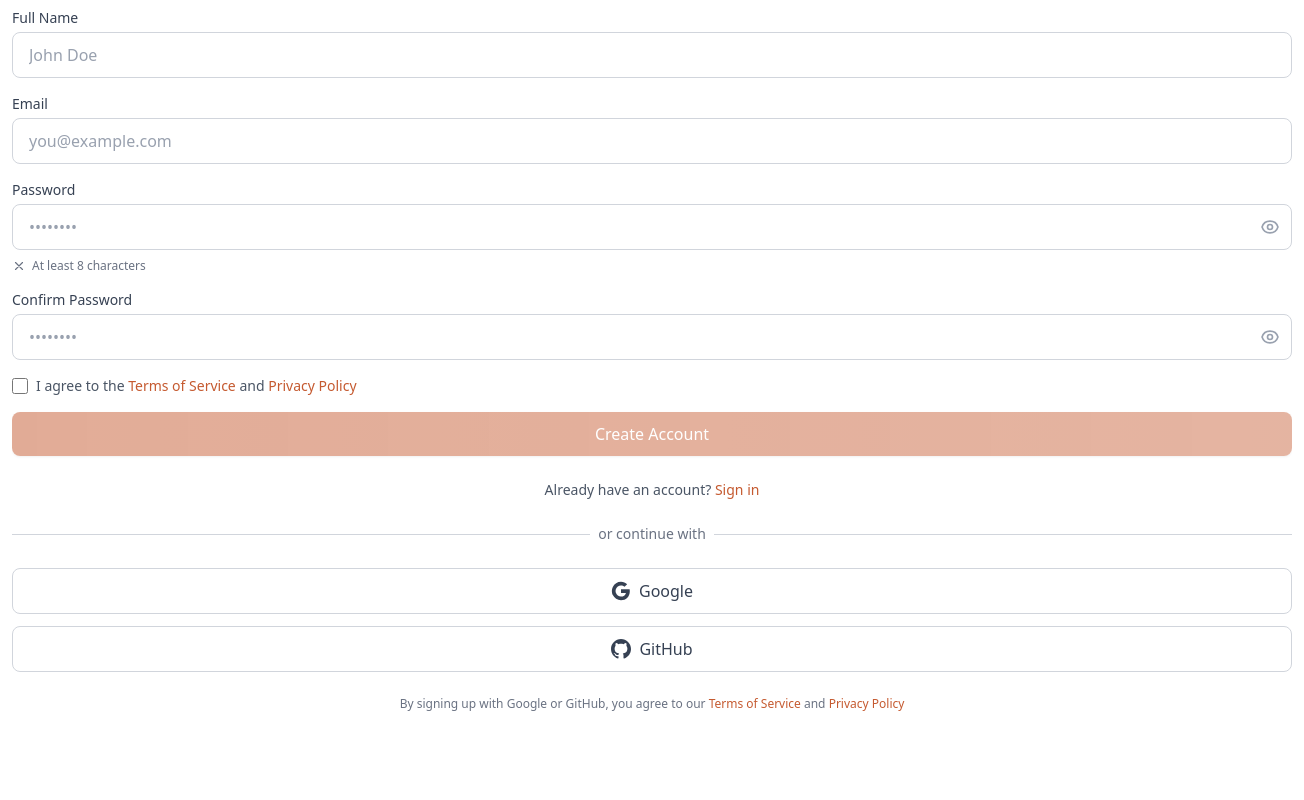
Test: SignUp › shows password match indicator
Type "Password123!" into the password field labelled "Password".
click(652, 227); type("Password123!")  # box [12, 204, 1292, 250]
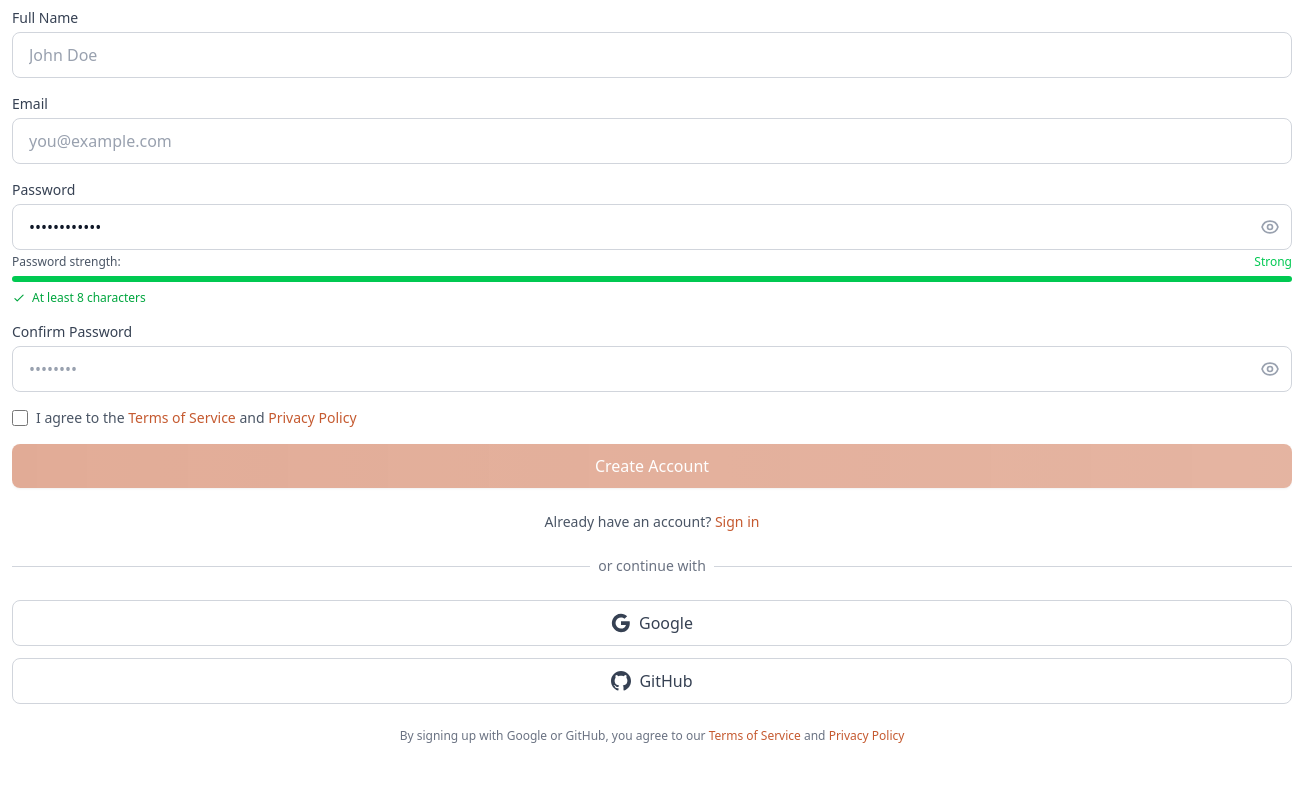
Type "Password123!" into the password field labelled "Confirm Password".
click(652, 369); type("Password123!")  # box [12, 346, 1292, 392]
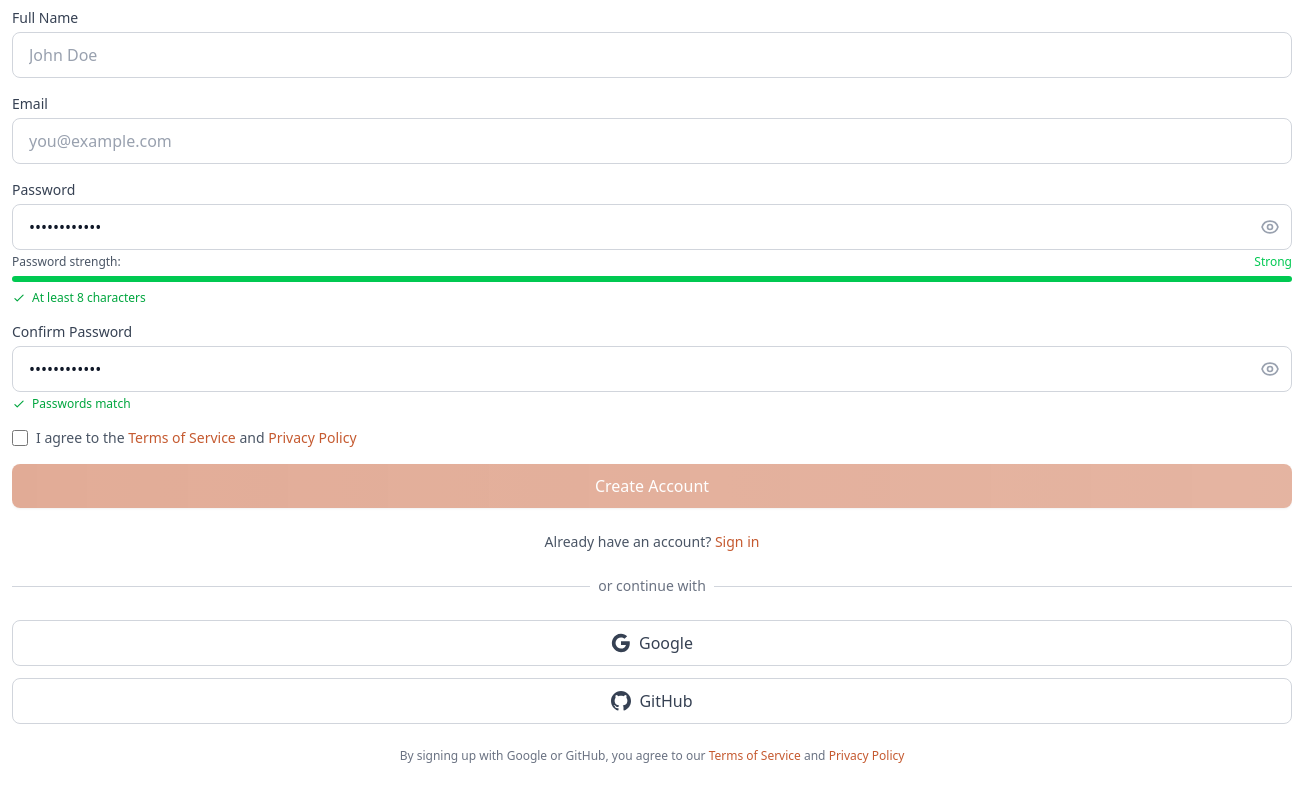
Expected: the text "Passwords match" is shown, [32, 396, 131, 412]
Type "Different" into the password field labelled "Confirm Password".
click(652, 369); type("Different")  # box [12, 346, 1292, 392]
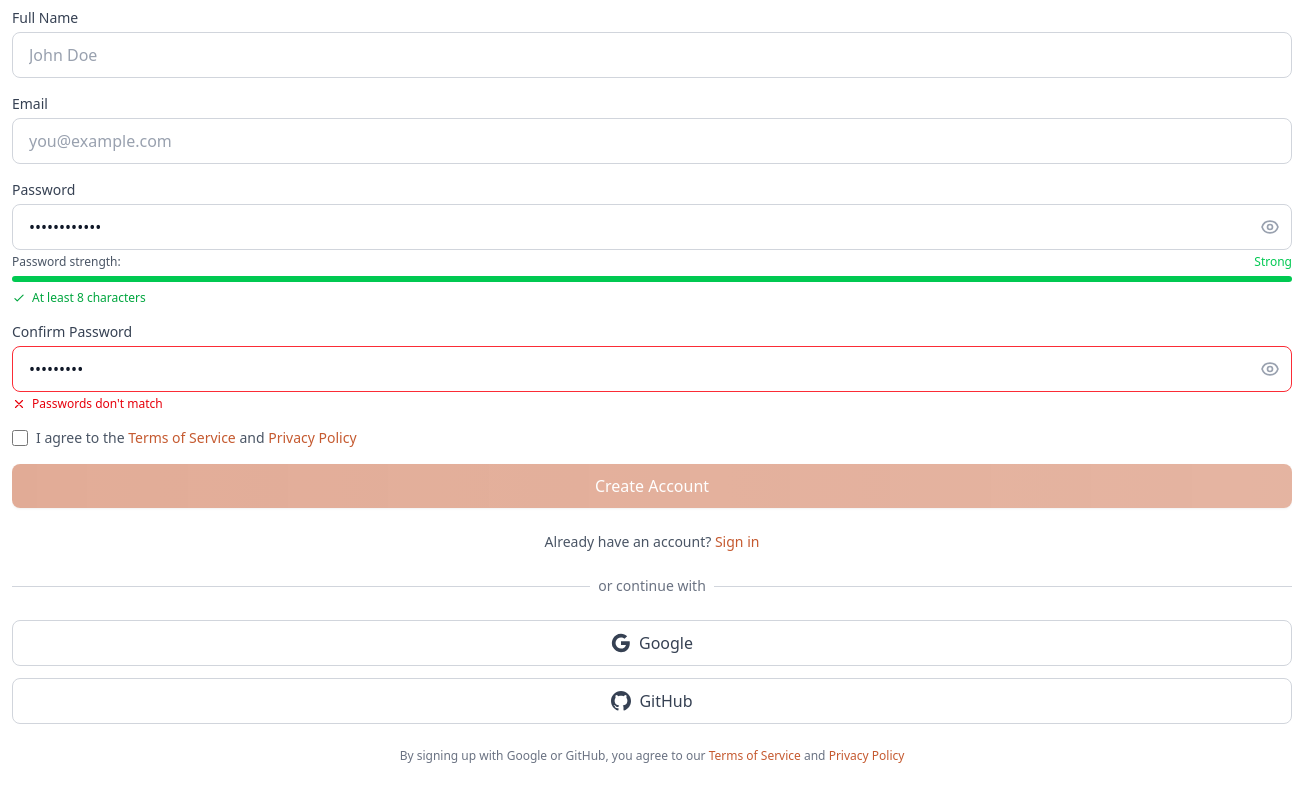
Expected: the text "Passwords don't match" is shown, [32, 396, 163, 412]
